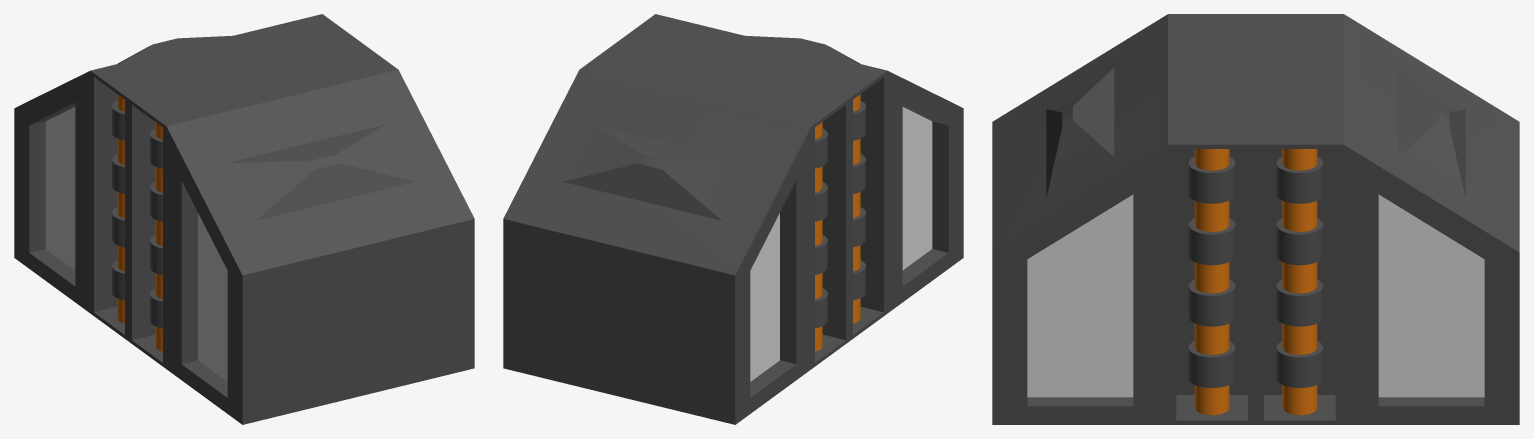
The model's file is Engine.fbx.
3 views of the same model, side by side, from view 1: azimuth 30°, elevation 25°; view 2: azimuth 150°, elevation 25°; view 3: azimuth 270°, elevation 25° (orthographic). The views are drawn at different scales.
Parts seen in each view (by area): view 1: Engine; view 2: Engine; view 3: Engine.
Boxes of the visible parts, x1,y1,x2,y2 form: Engine: [14, 14, 474, 424]; Engine: [503, 14, 963, 424]; Engine: [992, 14, 1519, 424].
Bounding box in the file's own units: 2 × 3.41 × 2.
